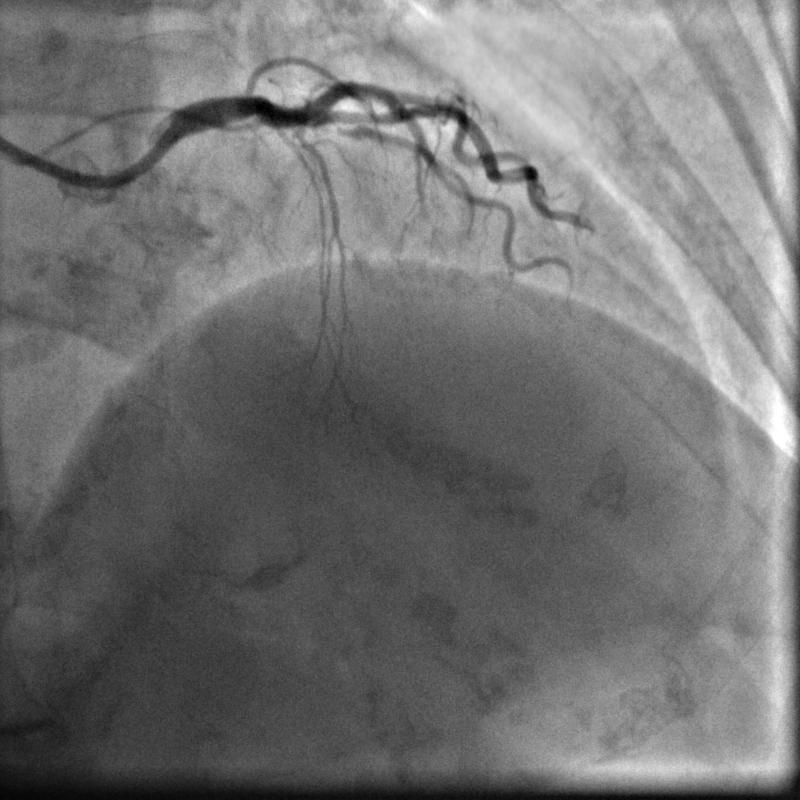Stenosis: (332, 122, 359, 137)
